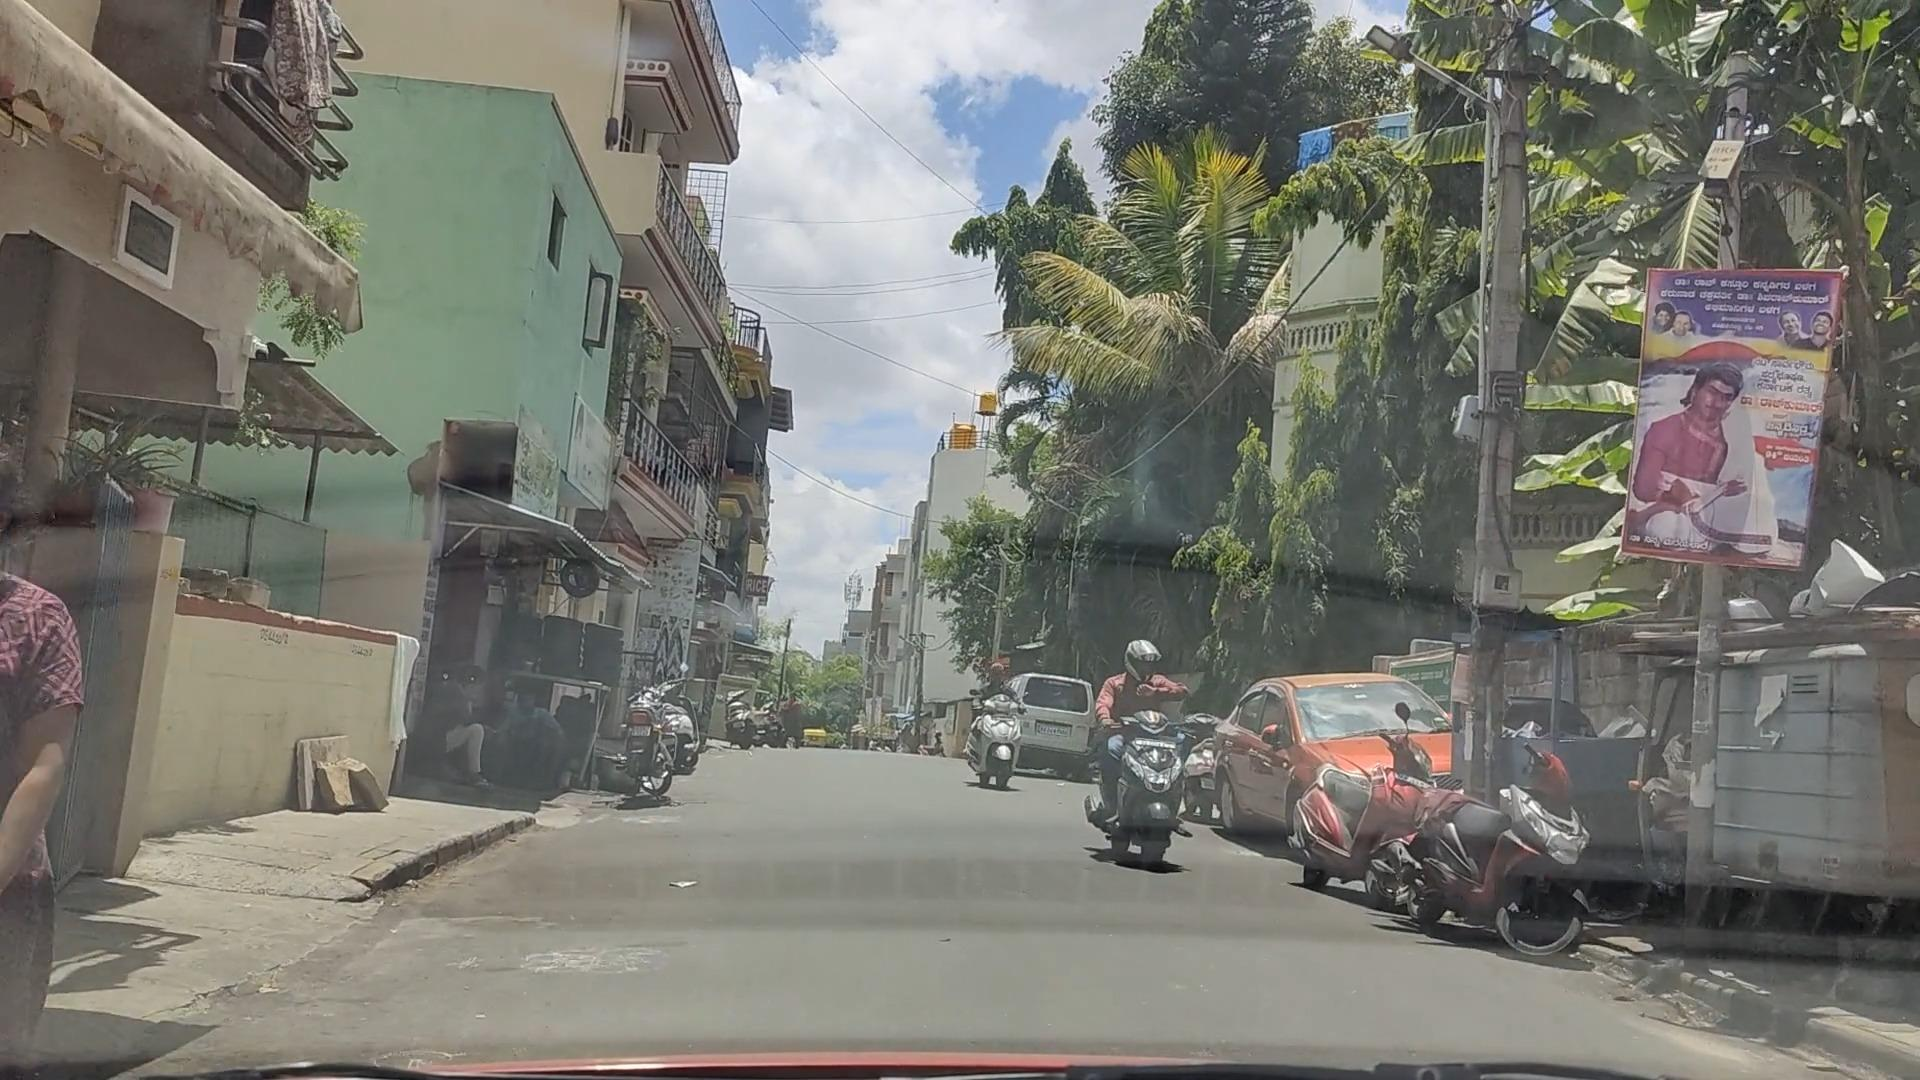LMV: (1104, 641, 1176, 866), (972, 670, 1018, 785)
